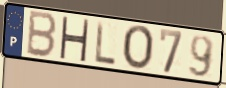7: (158, 28, 185, 75)
9: (186, 33, 217, 78)
B: (24, 8, 59, 60)
H: (57, 14, 91, 64)
L: (94, 20, 117, 67)
O: (122, 24, 157, 72)
